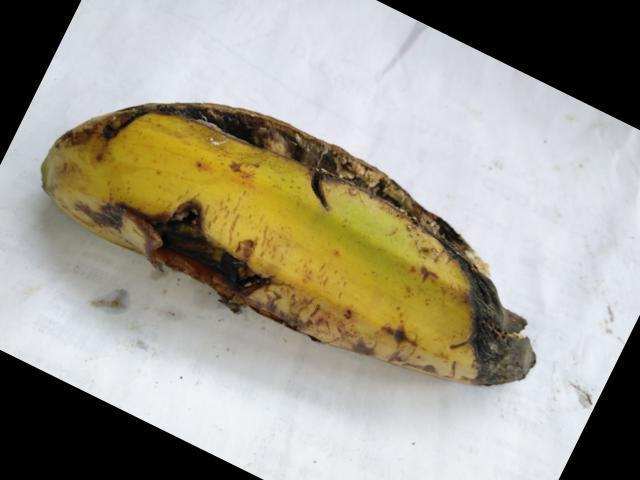rotten: (35, 66, 565, 423)
